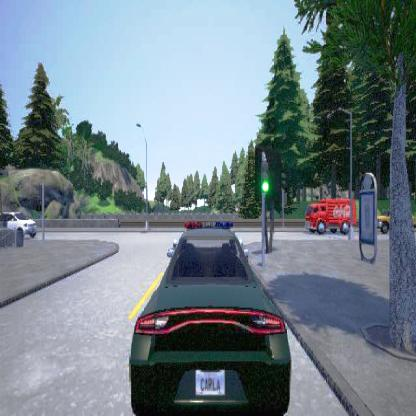vehicle: (128, 220, 291, 415), (304, 198, 356, 237), (376, 208, 416, 234), (0, 211, 36, 236)
